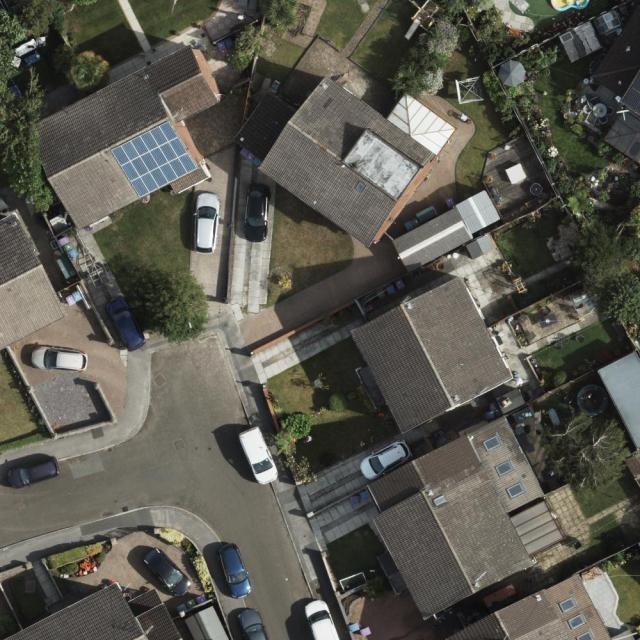roof: (368, 413, 570, 625), (233, 77, 459, 248), (25, 46, 225, 233), (349, 271, 514, 435), (0, 581, 185, 640), (442, 576, 612, 640), (0, 210, 71, 353), (593, 6, 640, 167), (591, 343, 640, 494)
skylight: (558, 596, 578, 616), (483, 434, 504, 453), (506, 483, 526, 502), (495, 460, 514, 478), (568, 612, 587, 630), (432, 491, 447, 508), (576, 629, 595, 640), (354, 177, 366, 192)
solar: (111, 120, 198, 199)
